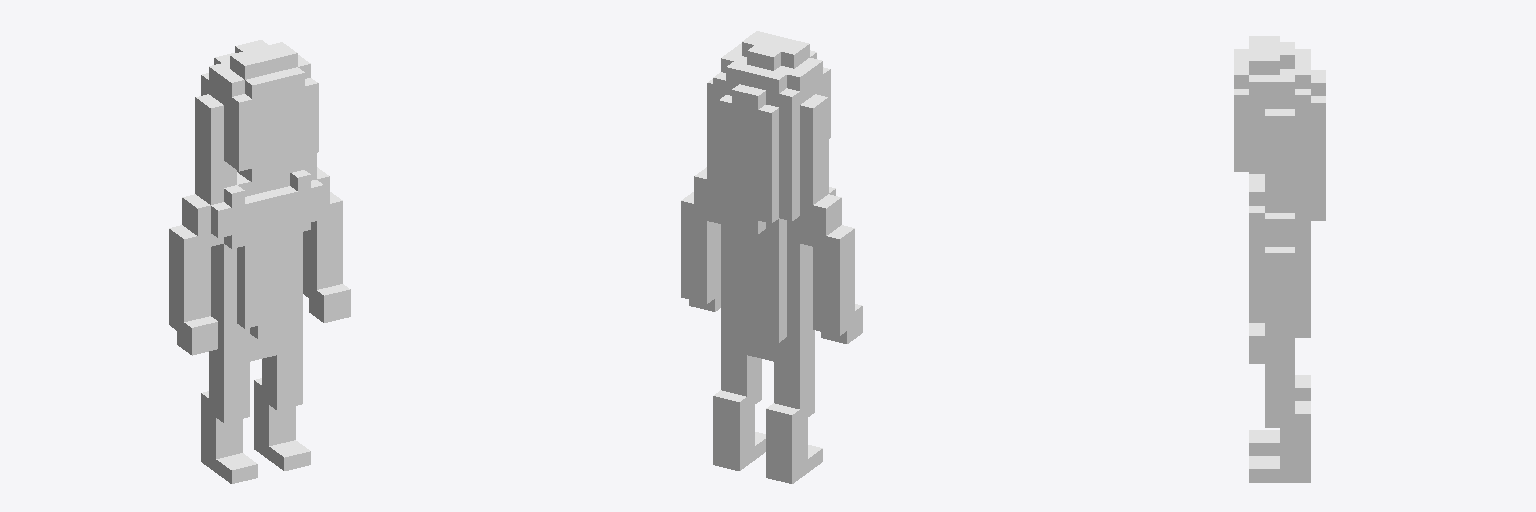
Rendered from CustomerModels9.obj.
The picture shows the model from 3 angles: view 1: azimuth 30°, elevation 25°; view 2: azimuth 150°, elevation 25°; view 3: azimuth 270°, elevation 25°; orthographic projection.
Parts seen in each view (by area): view 1: object 1; view 2: object 1; view 3: object 1.
Part boxes in pixels (left/top/right/bottom): object 1: left=169, top=40, right=350, bottom=483; object 1: left=681, top=31, right=862, bottom=483; object 1: left=1234, top=36, right=1325, bottom=482.
Size of the model in its own units: 1.2 by 3 by 0.6.